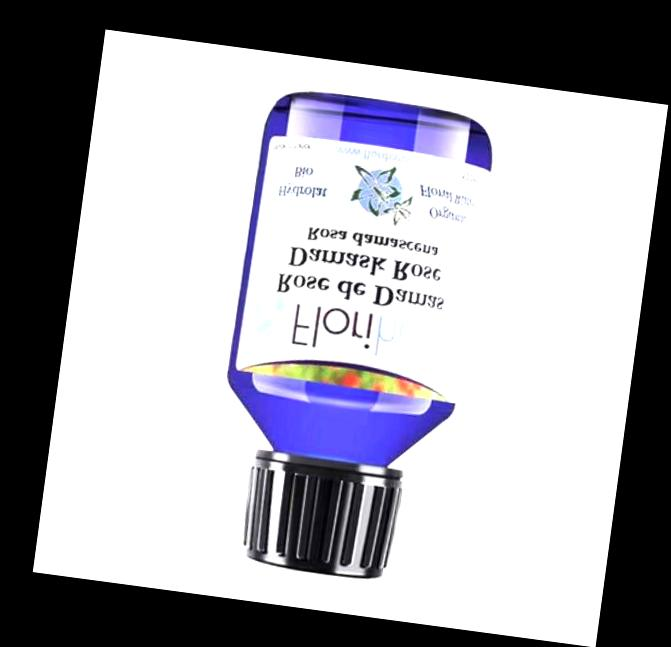cosmetic: (198, 87, 498, 591)
